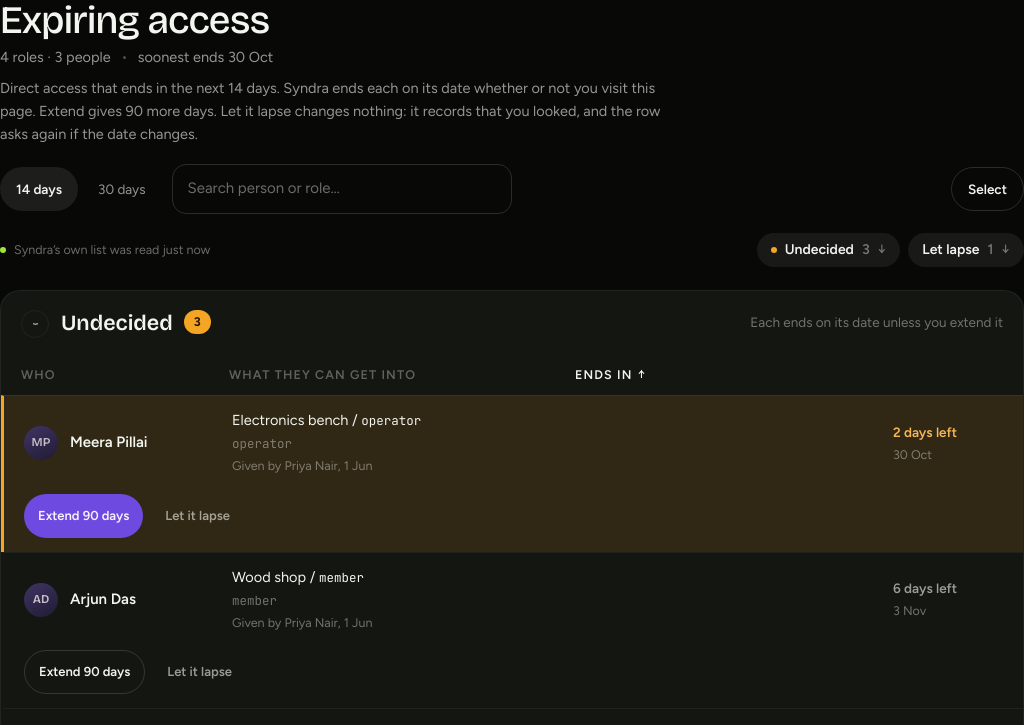
Scenario: Expiring access — search › never says every one is decided about a search that matches nothing
The image size is (1024, 725).
Type "zzz" into the field named "Search expiring access by person or role" at (342, 189), box [172,164,512,214]
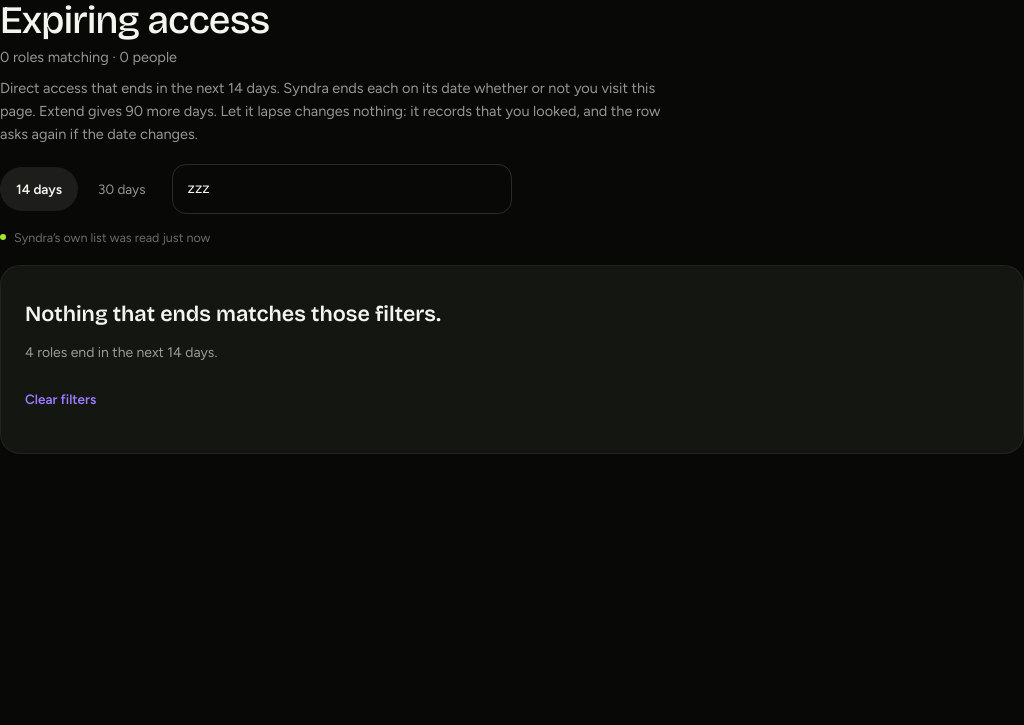
Expected: the text "Nothing that ends matches those filters." is shown, [25,298,441,332]
